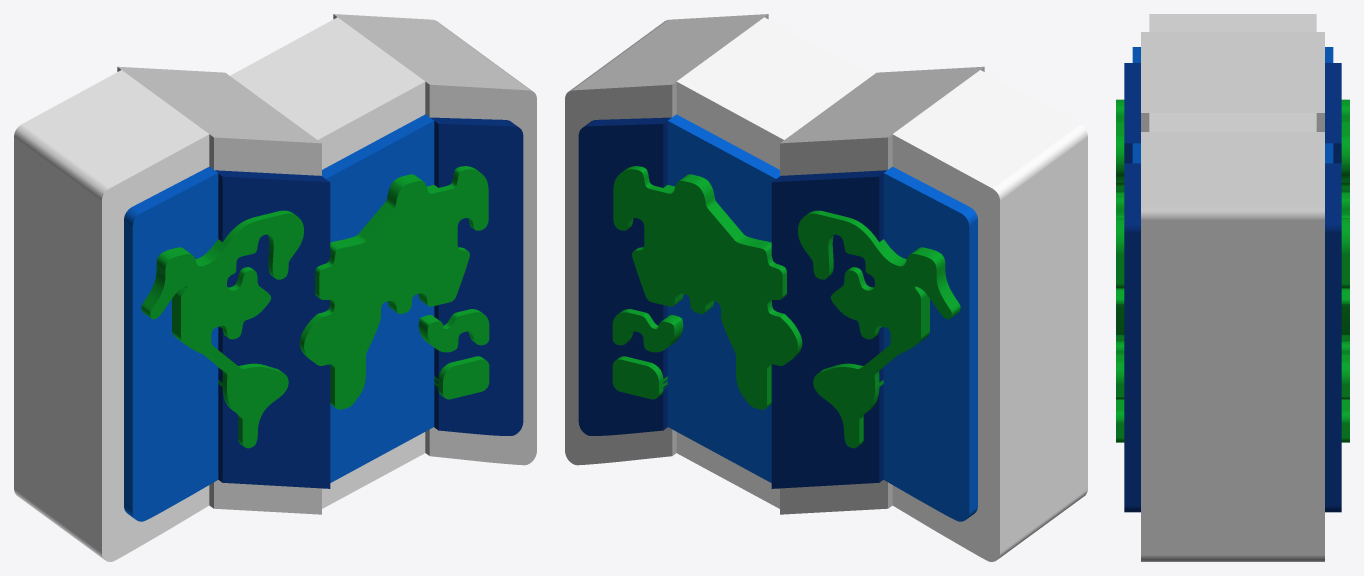
3 views of the same model, side by side, from view 1: azimuth 30°, elevation 25°; view 2: azimuth 150°, elevation 25°; view 3: azimuth 270°, elevation 25° (orthographic). The views are drawn at different scales.
Visible parts, largest first — view 1: U+1F5FA_layer00_obj00, U+1F5FA_layer03_obj00, U+1F5FA_layer02_obj00, U+1F5FA_layer04_obj00, U+1F5FA_layer01_obj00; view 2: U+1F5FA_layer00_obj00, U+1F5FA_layer03_obj00, U+1F5FA_layer02_obj00, U+1F5FA_layer04_obj00, U+1F5FA_layer01_obj00; view 3: U+1F5FA_layer01_obj00, U+1F5FA_layer03_obj00, U+1F5FA_layer00_obj00, U+1F5FA_layer04_obj00, U+1F5FA_layer02_obj00.
Boxes of the visible parts, left/top/right/bottom form: U+1F5FA_layer00_obj00: left=14, top=17, right=425, bottom=561; U+1F5FA_layer03_obj00: left=215, top=117, right=523, bottom=488; U+1F5FA_layer02_obj00: left=124, top=114, right=434, bottom=521; U+1F5FA_layer04_obj00: left=141, top=166, right=489, bottom=448; U+1F5FA_layer01_obj00: left=117, top=14, right=536, bottom=514; U+1F5FA_layer00_obj00: left=676, top=17, right=1087, bottom=561; U+1F5FA_layer03_obj00: left=578, top=117, right=886, bottom=488; U+1F5FA_layer02_obj00: left=667, top=114, right=977, bottom=521; U+1F5FA_layer04_obj00: left=612, top=166, right=960, bottom=448; U+1F5FA_layer01_obj00: left=565, top=14, right=984, bottom=514; U+1F5FA_layer01_obj00: left=1141, top=32, right=1324, bottom=561; U+1F5FA_layer03_obj00: left=1124, top=63, right=1341, bottom=512; U+1F5FA_layer00_obj00: left=1149, top=14, right=1316, bottom=131; U+1F5FA_layer04_obj00: left=1116, top=99, right=1349, bottom=442; U+1F5FA_layer02_obj00: left=1132, top=47, right=1333, bottom=163.
Bounding box in the file's own units: 0.5662 × 0.5073 × 0.28.
